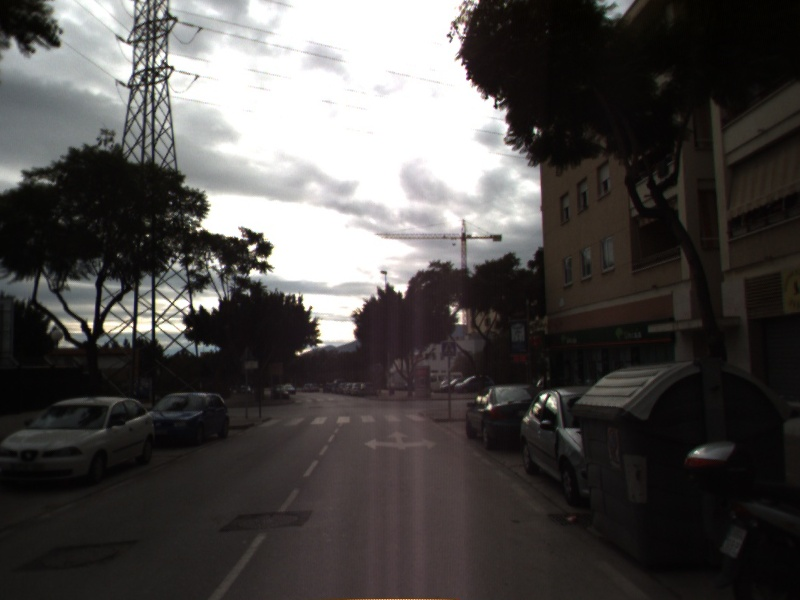STRAIGHT_LEFT_RIGHT: (362, 428, 440, 452)
